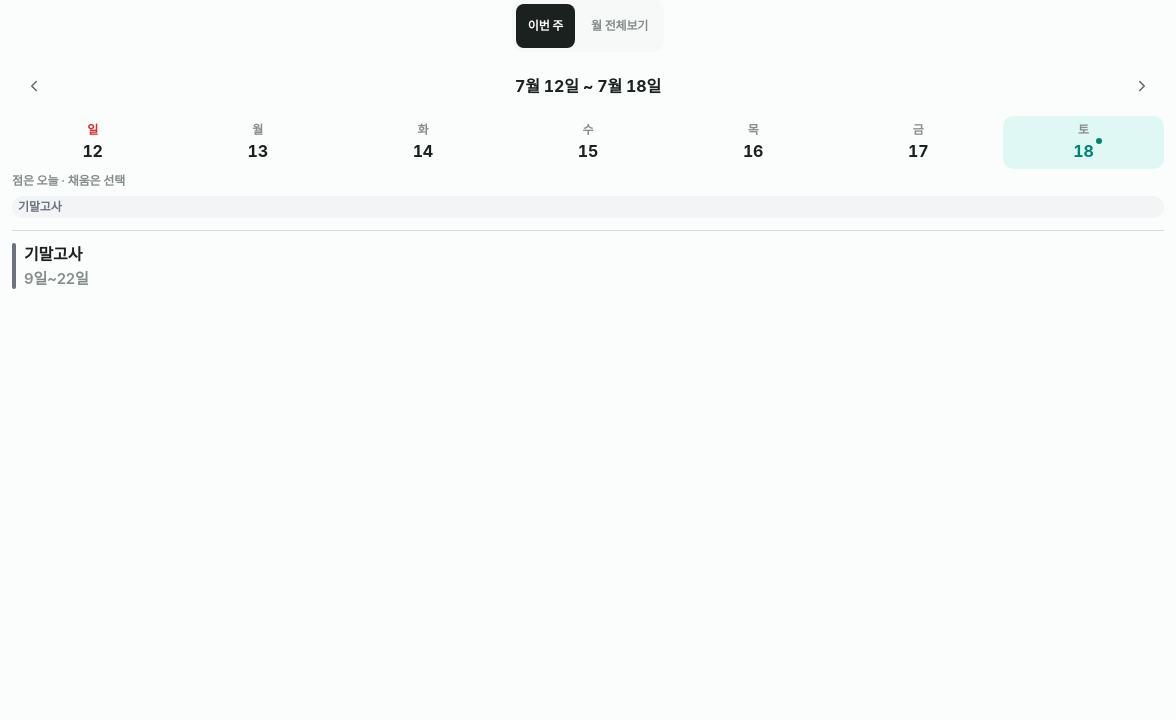
Test case: AcademicCalendarGrid — 주/월 탭 › 월에서 날짜를 선택한 뒤 주 탭으로 전환하면 그 날짜가 속한 주를 보여준다
The image size is (1176, 720).
Click the tab "월 전체보기": (620,26) left=579, top=4, right=660, bottom=48
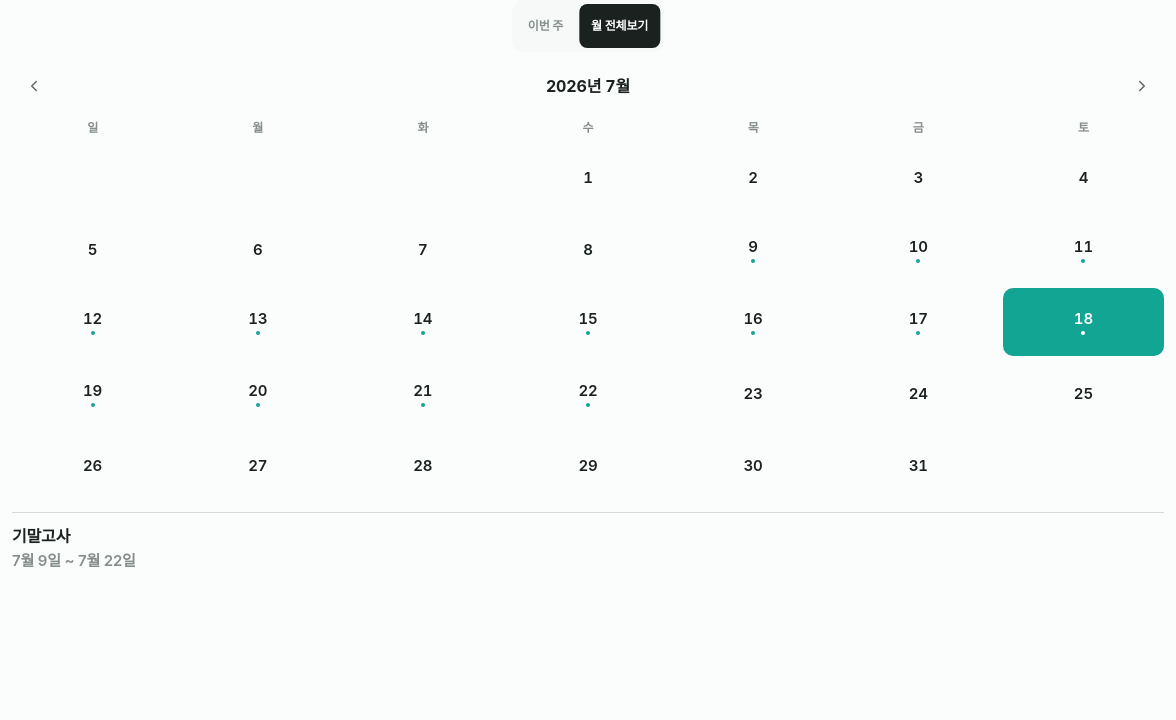
Click the button with test id "cal-day-2026-07-09": (753,250) left=673, top=216, right=834, bottom=284
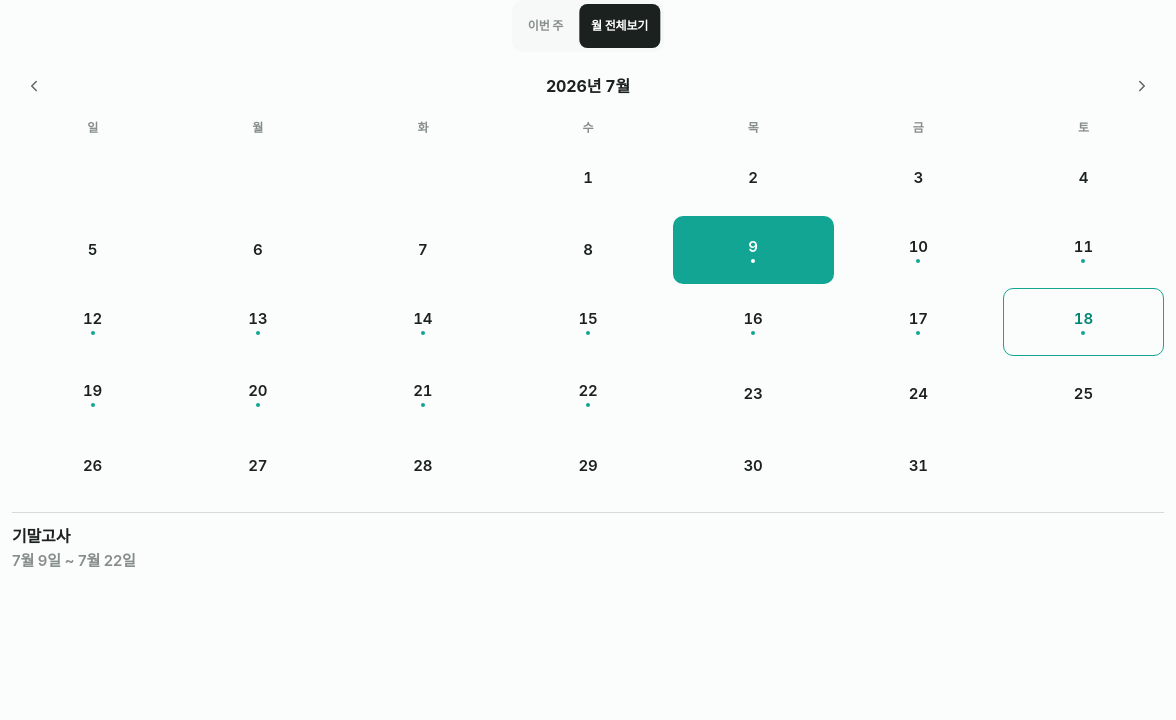
Click the tab "이번 주": (545,26) left=516, top=4, right=575, bottom=48
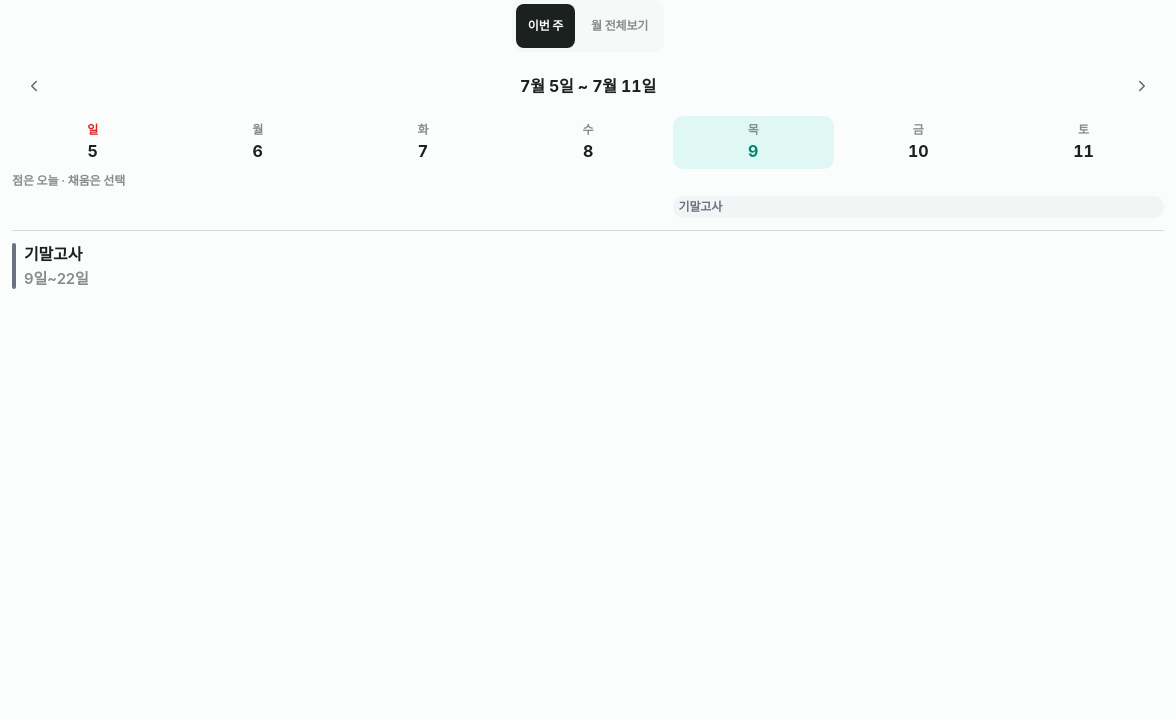
Now the text "7월 5일 ~ 7월 11일" is shown, box left=520, top=74, right=656, bottom=98
